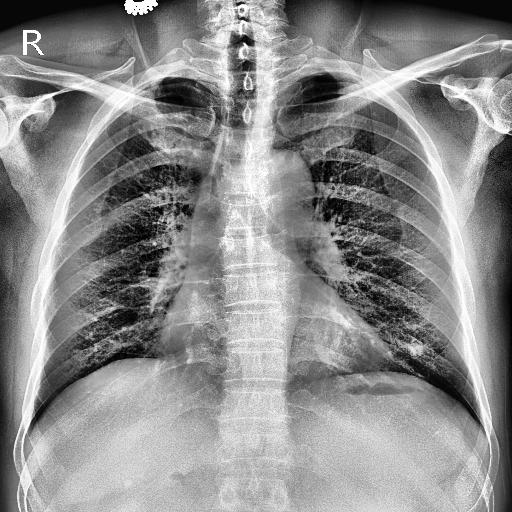0- Aortic enlargement: (250, 148, 316, 248), (243, 151, 315, 234), (248, 150, 314, 226)
